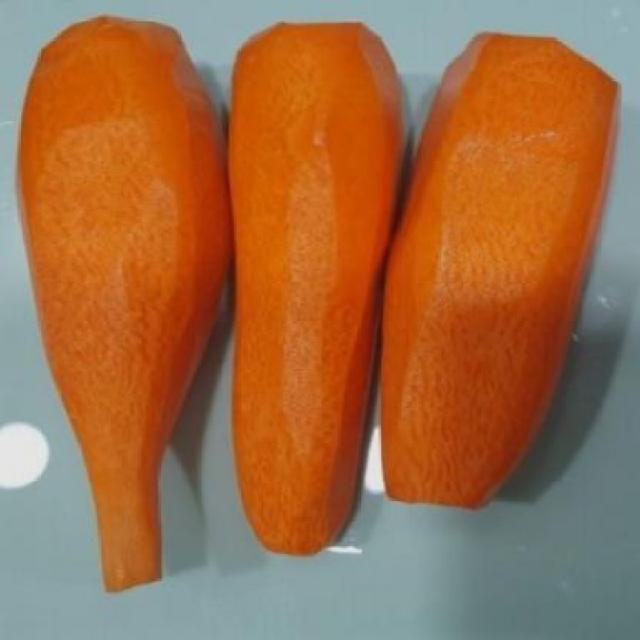carrot: (5, 10, 232, 630), (383, 23, 620, 514), (224, 20, 410, 568)
